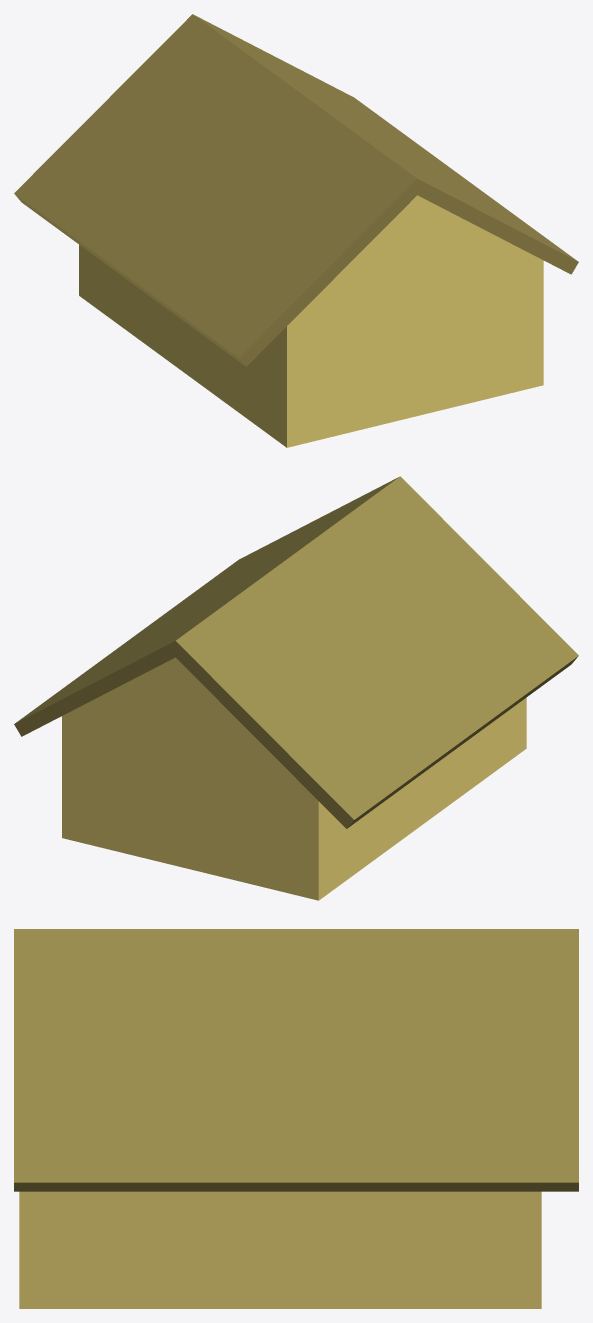
File: result.glb
The picture shows the model from 3 angles, top to bottom: view 1: azimuth 30°, elevation 25°; view 2: azimuth 150°, elevation 25°; view 3: azimuth 270°, elevation 25°; orthographic projection. The views are drawn at different scales.
Visible parts, largest first — view 1: 5c40ea98-8709-45e6-b8c5-b938f78e21c9__undefined (×2), 6d2bd15b-5eaa-4004-bad5-c1e8c86ea0f5__undefined; view 2: 5c40ea98-8709-45e6-b8c5-b938f78e21c9__undefined (×2), 6d2bd15b-5eaa-4004-bad5-c1e8c86ea0f5__undefined; view 3: 5c40ea98-8709-45e6-b8c5-b938f78e21c9__undefined, 6d2bd15b-5eaa-4004-bad5-c1e8c86ea0f5__undefined.
Boxes of the visible parts, <box> form: 5c40ea98-8709-45e6-b8c5-b938f78e21c9__undefined (×2): <box>14,14,578,366</box>; 6d2bd15b-5eaa-4004-bad5-c1e8c86ea0f5__undefined: <box>79,195,543,447</box>; 5c40ea98-8709-45e6-b8c5-b938f78e21c9__undefined (×2): <box>14,476,578,828</box>; 6d2bd15b-5eaa-4004-bad5-c1e8c86ea0f5__undefined: <box>62,657,526,900</box>; 5c40ea98-8709-45e6-b8c5-b938f78e21c9__undefined: <box>14,929,578,1191</box>; 6d2bd15b-5eaa-4004-bad5-c1e8c86ea0f5__undefined: <box>19,1191,541,1308</box>.
Size of the model in its own units: 661 by 445 by 757.
